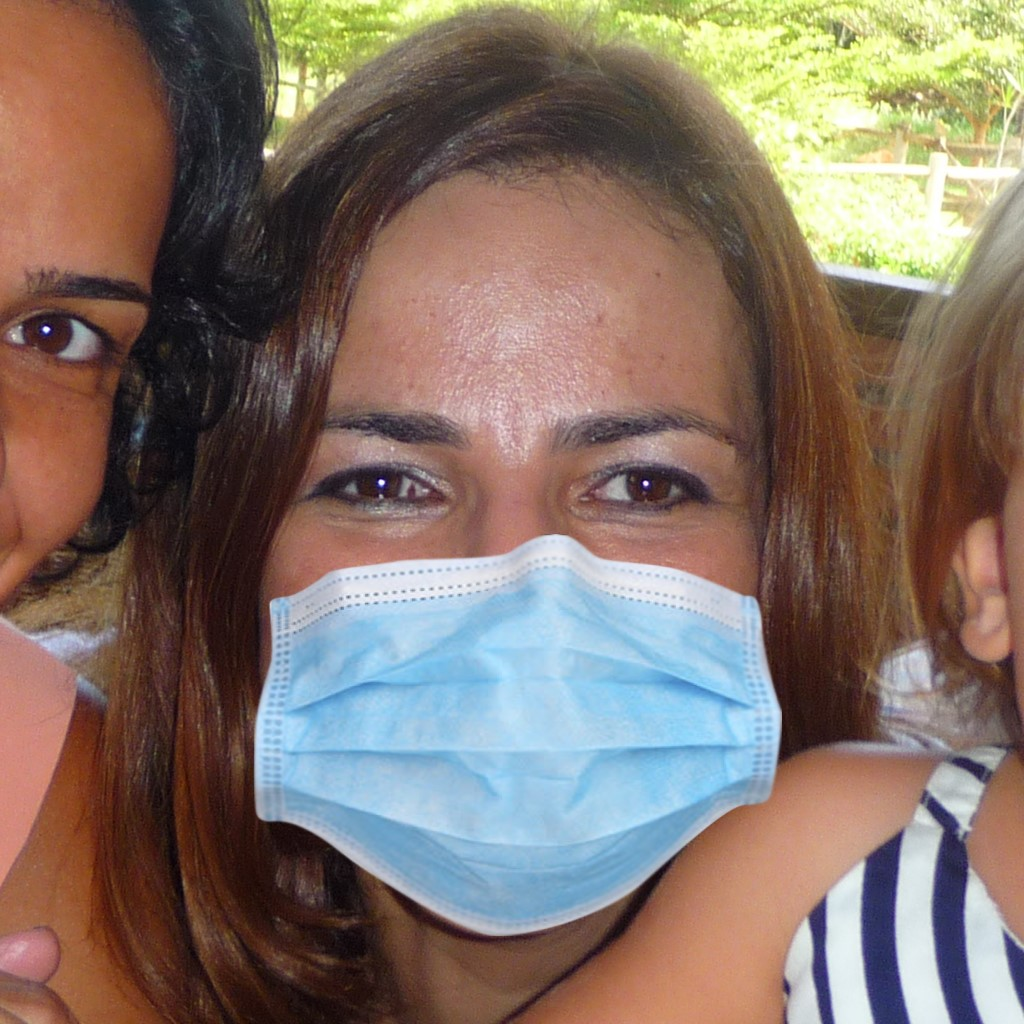con_mascara: (246, 136, 824, 925)
